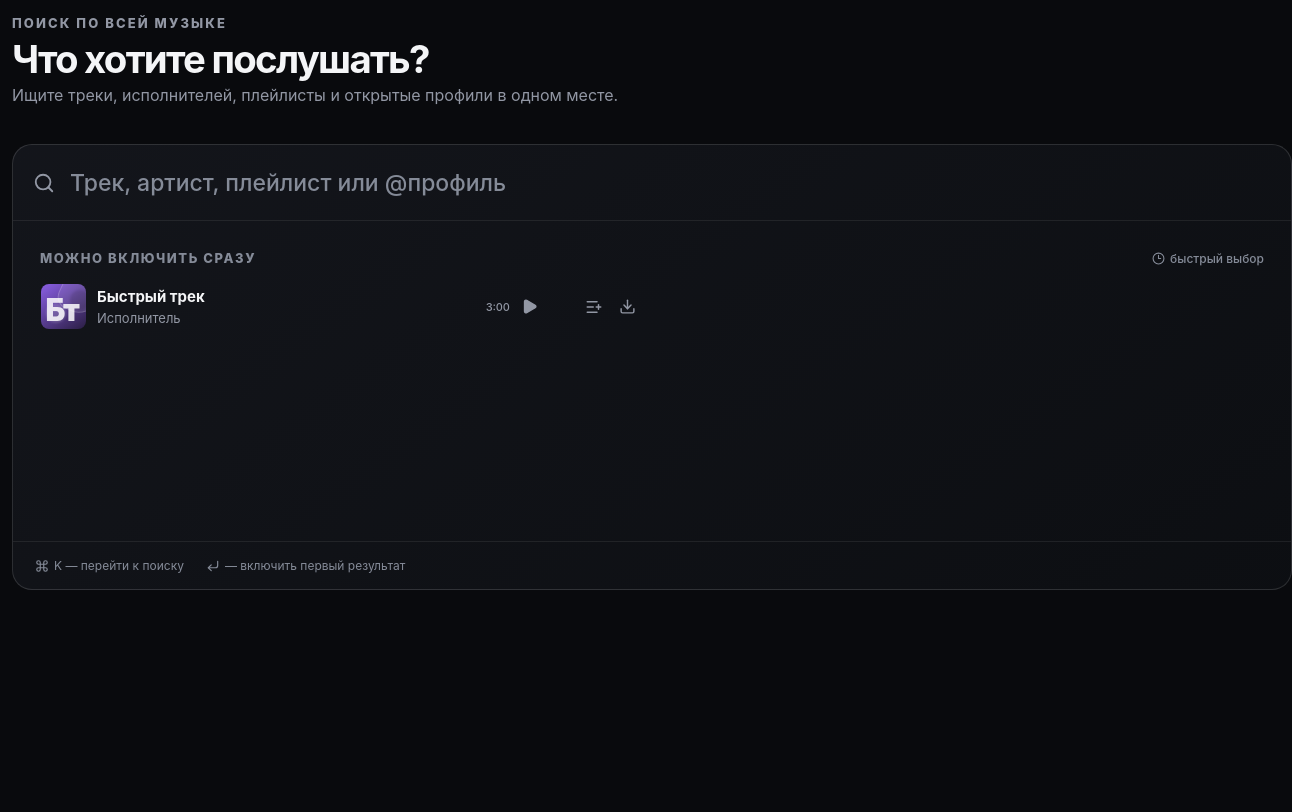
Test: content search page › renders inline and keeps results in the content area
This screenshot has width=1292, height=812.
Expected: the text "Быстрый трек" is shown, [97,287,205,306]
Type "Новый" into the field named "Поисковый запрос".
click(663, 182); type("Новый")  # box [68,146,1258,218]
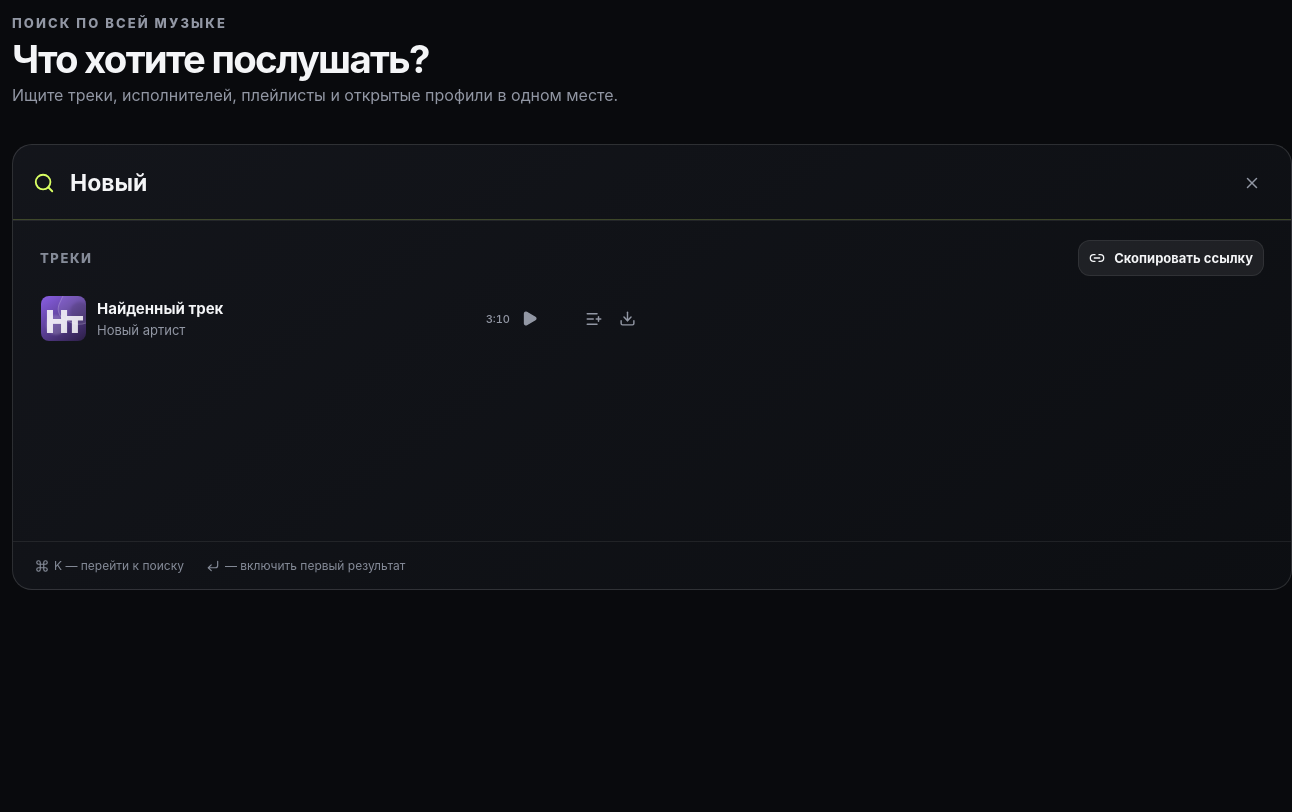
Expected: the text "Найденный трек" is shown, [97,299,223,318]
Expected: the button named "Добавить Найденный трек в плейлист или очередь" is shown, [578,303,609,334]
